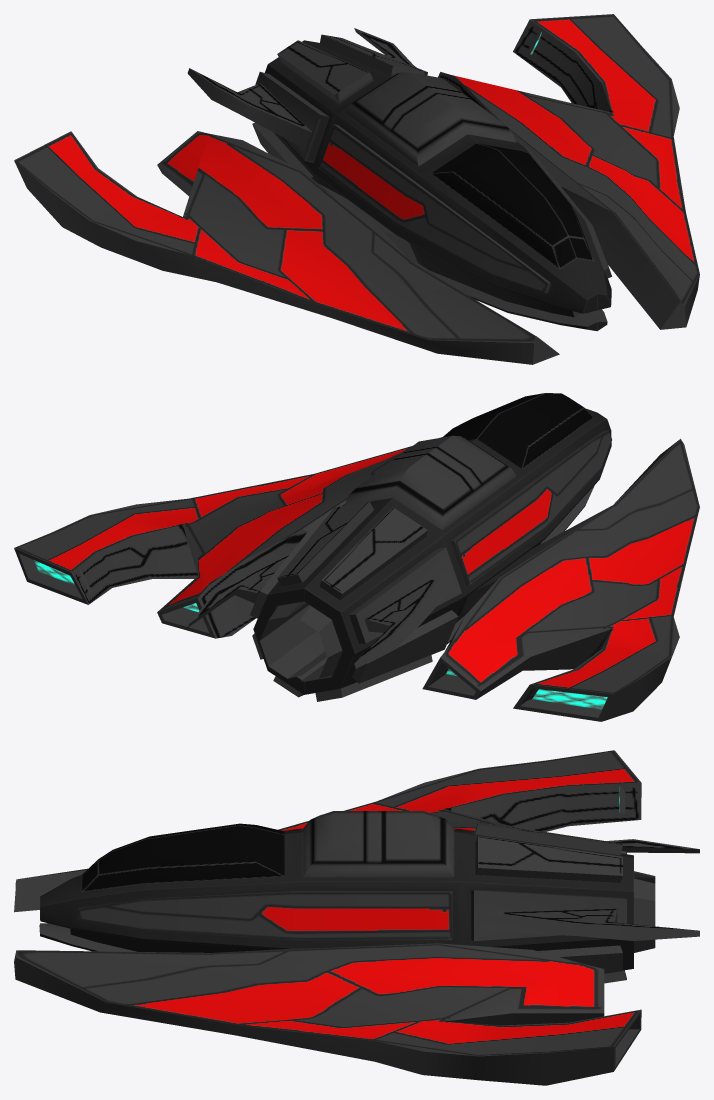
Rendered from Hornet II.fbx.
3 views of the same model, one above another, from view 1: azimuth 30°, elevation 25°; view 2: azimuth 150°, elevation 25°; view 3: azimuth 270°, elevation 25° (orthographic).
Parts seen in each view (by area): view 1: Cube; view 2: Cube; view 3: Cube.
Boxes of the visible parts, x1=… form: Cube: x1=14, y1=14, x2=699, y2=364; Cube: x1=14, y1=393, x2=699, y2=721; Cube: x1=14, y1=750, x2=699, y2=1085.
Bounding box in the file's own units: 1125 × 322 × 1099.
Materials: 1 (1 with a texture image).
